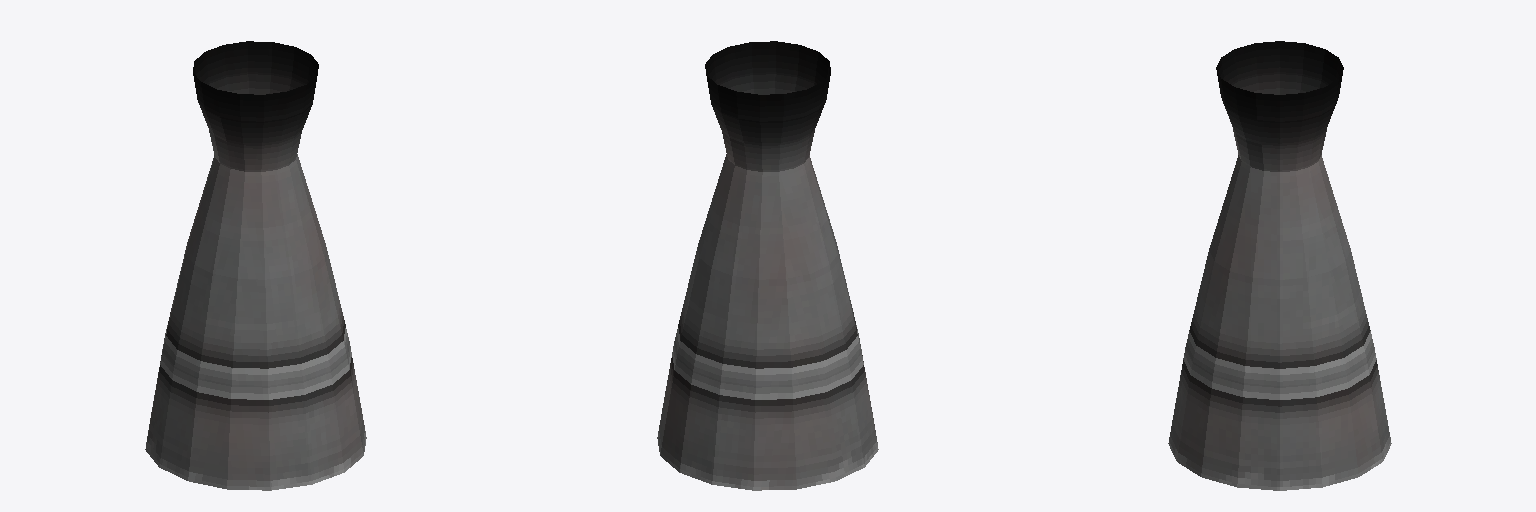
3 renders of one model, left to right at view 1: azimuth 30°, elevation 25°; view 2: azimuth 150°, elevation 25°; view 3: azimuth 270°, elevation 25°, orthographic.
Parts seen in each view (by area): view 1: tantares_lv_engine_s1p5_2_vernier; view 2: tantares_lv_engine_s1p5_2_vernier; view 3: tantares_lv_engine_s1p5_2_vernier.
Part boxes in pixels (bbox=[...]): tantares_lv_engine_s1p5_2_vernier: bbox=[145, 41, 366, 490]; tantares_lv_engine_s1p5_2_vernier: bbox=[657, 41, 878, 490]; tantares_lv_engine_s1p5_2_vernier: bbox=[1168, 41, 1391, 490].
Size of the model in its own units: 0.175 by 0.325 by 0.175.
1 materials, 1 textured.